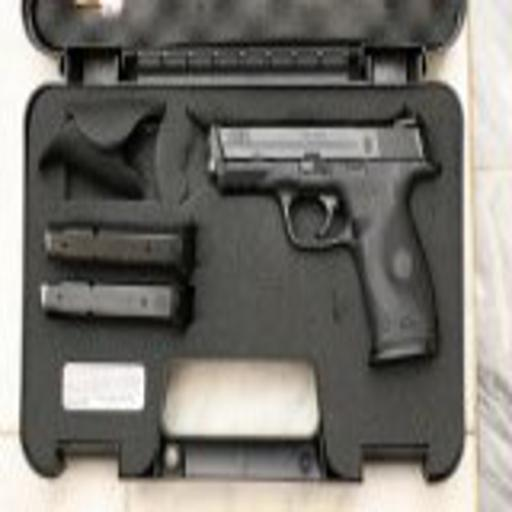Handgun: (203, 114, 447, 374)
